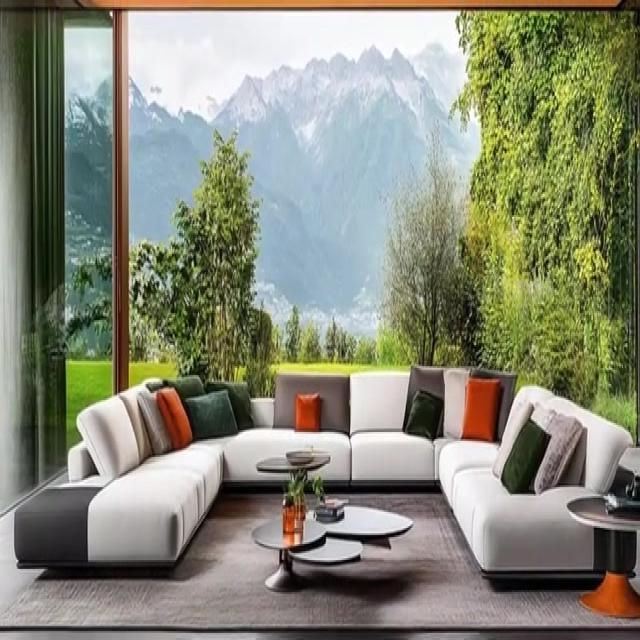obstacle: (14, 364, 637, 586), (255, 454, 413, 572), (566, 492, 639, 618)
